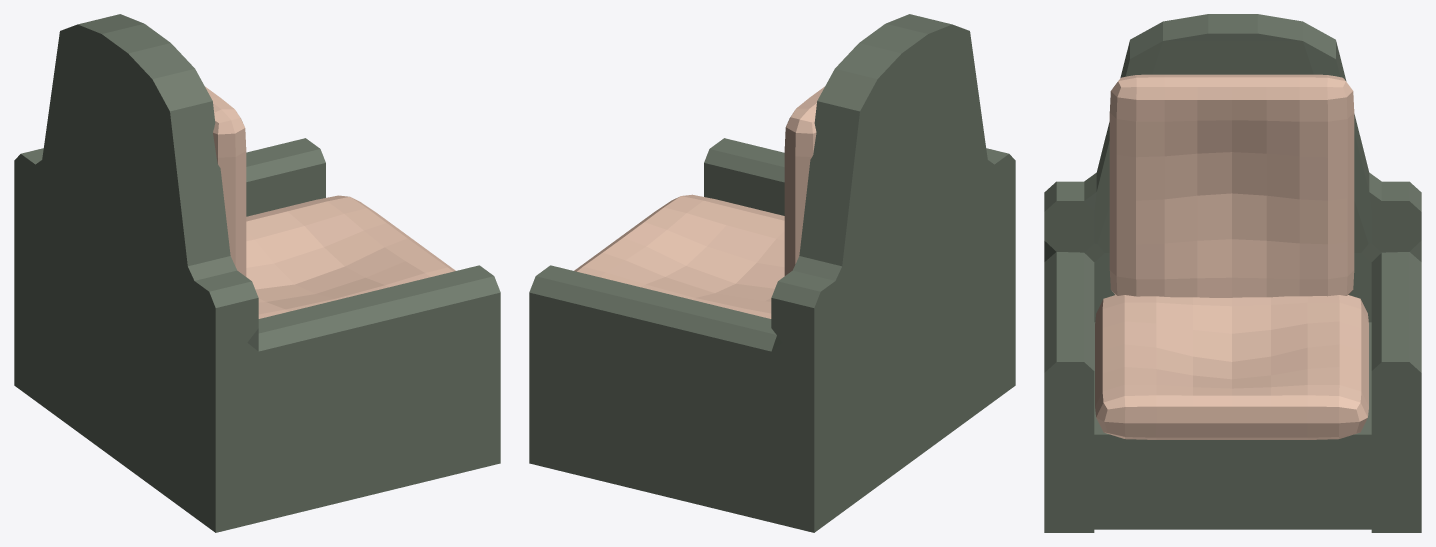
File: sofaChair.fbx
3 views of the same model, side by side, from view 1: azimuth 30°, elevation 25°; view 2: azimuth 150°, elevation 25°; view 3: azimuth 270°, elevation 25° (orthographic). The views are drawn at different scales.
Parts seen in each view (by area): view 1: SofaChair; view 2: SofaChair; view 3: SofaChair.
Part boxes in pixels (left/top/right/bottom): SofaChair: left=14, top=14, right=500, bottom=532; SofaChair: left=529, top=14, right=1015, bottom=532; SofaChair: left=1044, top=14, right=1421, bottom=532.
Bounding box in the file's own units: 160 × 183 × 209.
